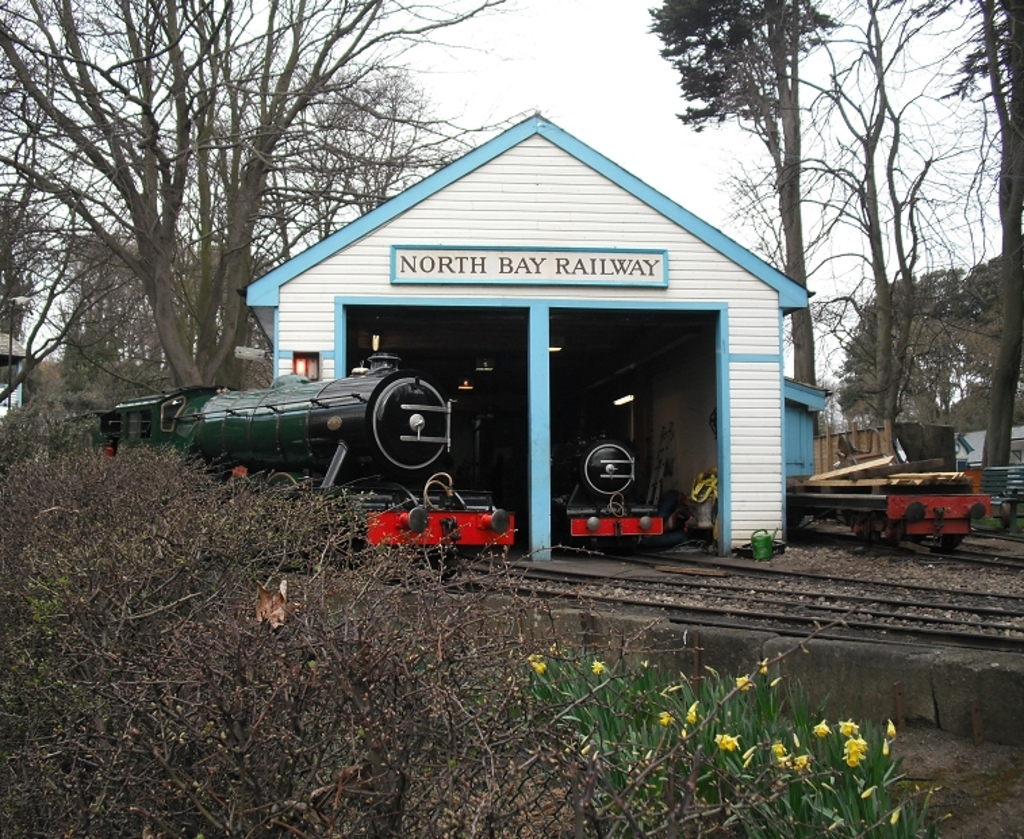train: (553, 428, 666, 552)
